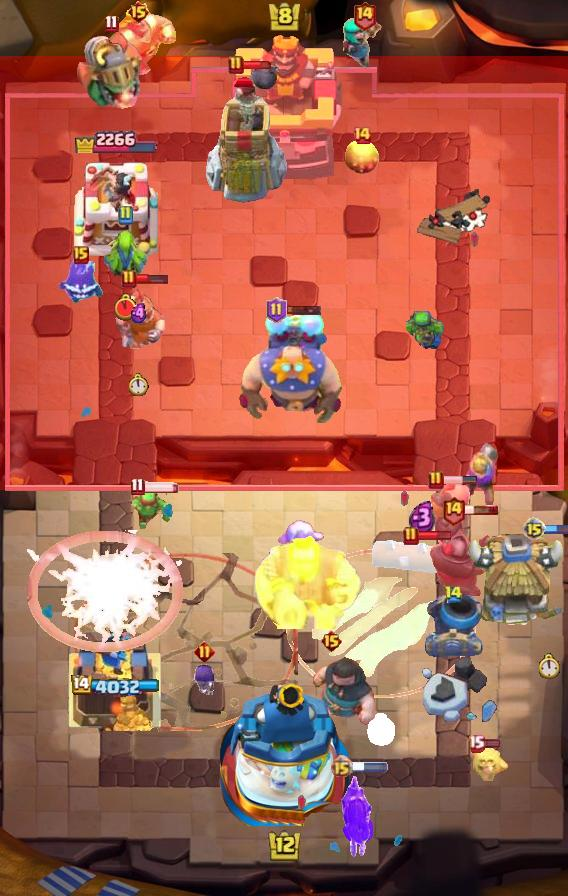barbarian-evolution: (27, 530, 185, 652)
bat-evolution: (466, 741, 510, 781)
bomb-tower: (460, 443, 500, 507)
earthquake: (113, 281, 165, 349)
electro-spirit: (409, 501, 436, 535), (129, 303, 149, 324)
elixir: (367, 714, 395, 746), (114, 293, 138, 321), (539, 653, 561, 679), (129, 372, 149, 395)
emote: (142, 481, 180, 493), (285, 304, 322, 316), (463, 504, 499, 516), (136, 273, 169, 285), (417, 530, 452, 541), (350, 762, 388, 772), (442, 475, 478, 485), (242, 60, 274, 70), (544, 525, 568, 536), (482, 738, 501, 749)
executioner: (425, 479, 471, 523)
giant-skeleton: (252, 535, 362, 629)
giant-snowball: (130, 486, 172, 532), (406, 311, 448, 351)
goblin: (191, 664, 217, 700)
goblin-ball: (337, 765, 373, 859)
goblin-hut: (97, 0, 179, 104)
guard: (74, 553, 298, 732)
hog: (345, 137, 379, 175)
ice-wizard: (286, 550, 476, 699)
king-tower: (219, 678, 349, 826), (226, 33, 342, 181)
little-prince: (236, 310, 346, 426)
minion: (371, 540, 473, 576)
mirror: (276, 519, 326, 557)
musketeer: (423, 593, 483, 657)
night-witch: (76, 35, 146, 109)
prince: (466, 534, 568, 630)
queen-tower: (66, 621, 162, 731), (70, 154, 158, 256)
royal-guardian: (429, 514, 515, 596)
royal-hog: (286, 655, 376, 729)
selected: (71, 125, 156, 153), (69, 674, 159, 698)
spear-goblin: (55, 259, 107, 303)
text: (351, 0, 376, 31), (442, 494, 467, 525), (522, 517, 546, 541), (127, 0, 150, 24), (320, 629, 343, 653), (265, 297, 286, 323), (331, 755, 354, 778), (193, 642, 215, 663), (352, 125, 372, 145), (445, 584, 464, 603), (467, 735, 485, 753), (228, 55, 244, 75), (117, 205, 133, 225), (121, 269, 137, 289), (428, 470, 444, 490), (403, 526, 419, 546), (73, 246, 89, 264), (131, 477, 146, 496), (105, 15, 119, 34)
witch: (341, 17, 387, 69)
zap: (100, 228, 150, 276)
zappy: (204, 63, 292, 207)
